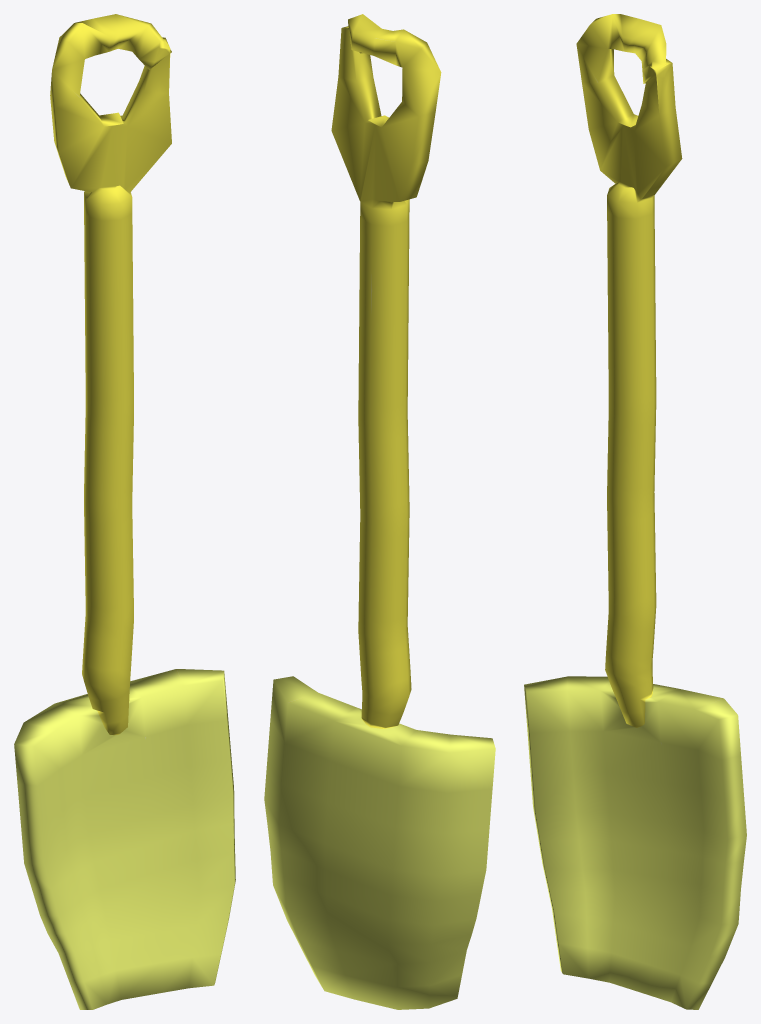
The model's file is shovel.glb.
3 renders of one model, left to right at view 1: azimuth 30°, elevation 25°; view 2: azimuth 150°, elevation 25°; view 3: azimuth 330°, elevation 25°, orthographic. The views are drawn at different scales.
Bounding box in the file's own units: 0.2308 × 0.9611 × 0.0812.
1 material, 1 textured.
